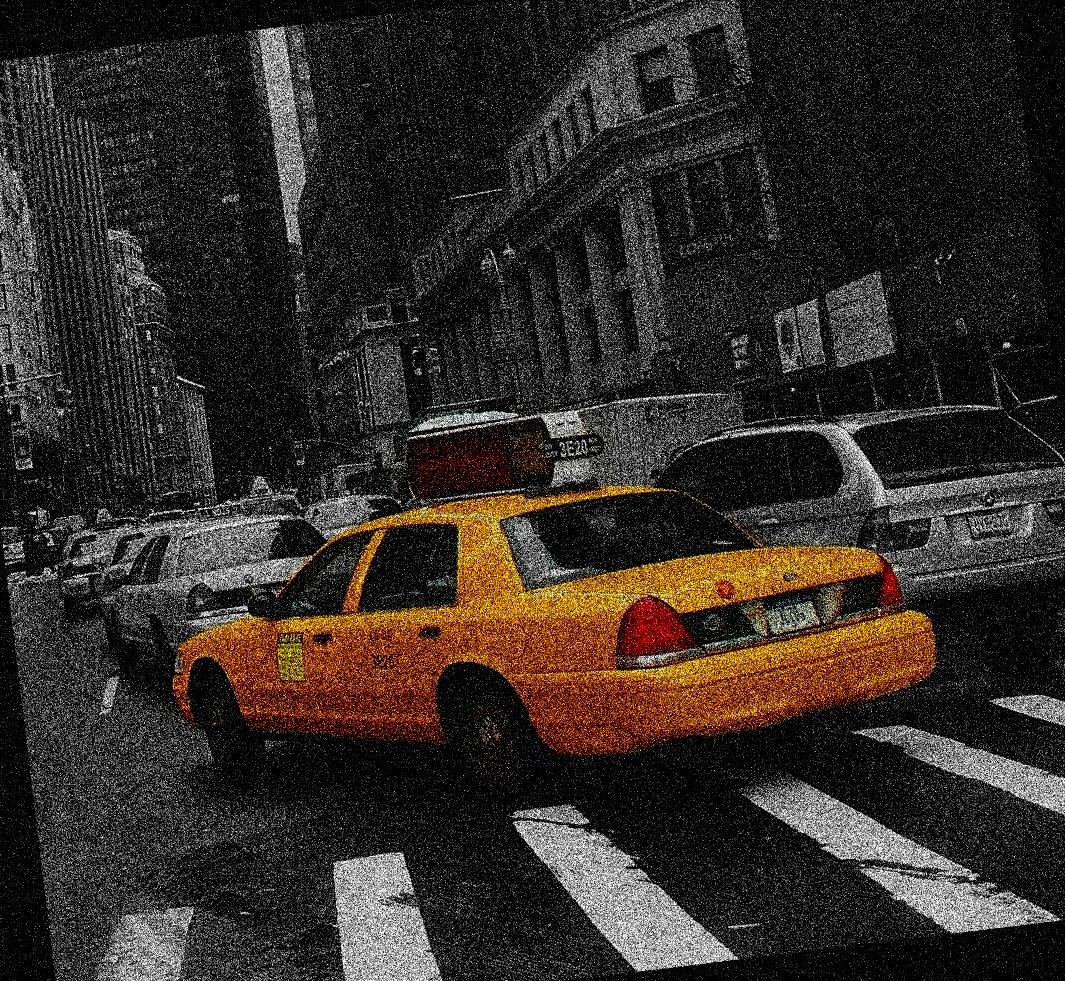taxi: (147, 527, 973, 776)
